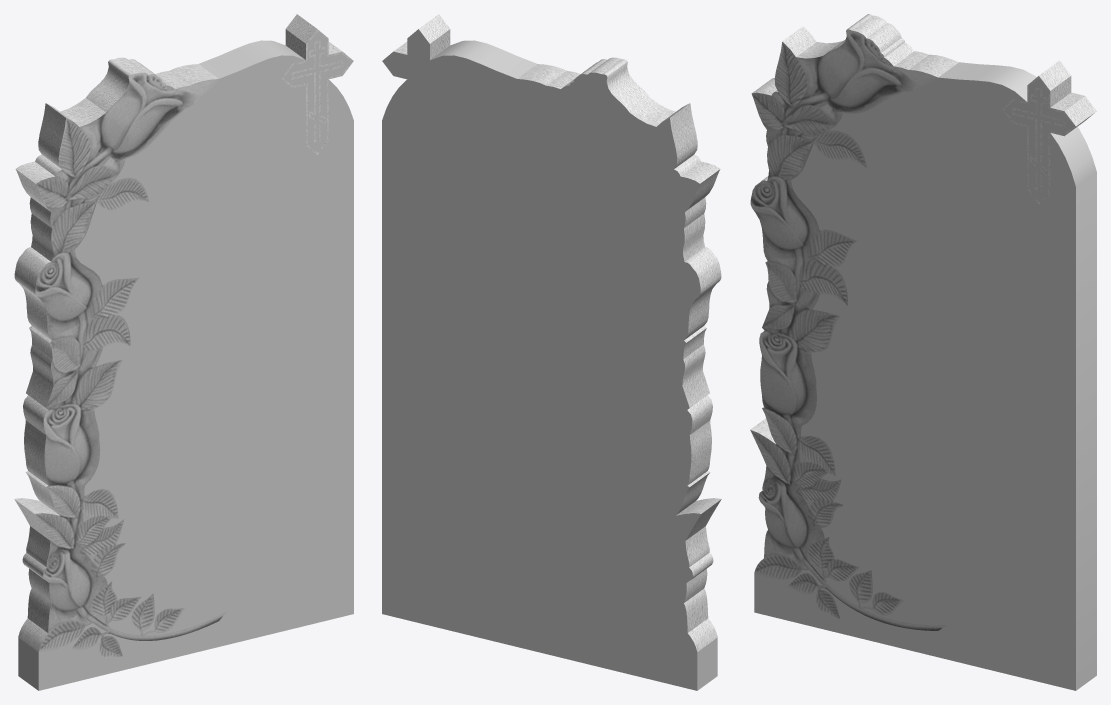
Rendered from cn8a22f0b9d9_tkf.glb.
3 views of the same model, side by side, from view 1: azimuth 30°, elevation 25°; view 2: azimuth 150°, elevation 25°; view 3: azimuth 330°, elevation 25° (orthographic). The views are drawn at different scales.
Visible parts, largest first — view 1: Pam-d01-232, Pam-d01-232_2_notexture; view 2: Pam-d01-232, Pam-d01-232_2_notexture; view 3: Pam-d01-232, Pam-d01-232_2_notexture.
Boxes of the visible parts, box(x1,y1,x2,y2) form: Pam-d01-232: box(18, 32, 353, 690); Pam-d01-232_2_notexture: box(14, 14, 353, 657); Pam-d01-232: box(382, 29, 717, 690); Pam-d01-232_2_notexture: box(393, 14, 721, 651); Pam-d01-232: box(754, 62, 1096, 690); Pam-d01-232_2_notexture: box(750, 14, 1096, 630).
Bounding box in the file's own units: 0.45 × 0.8 × 0.05.
Materials: 1 (1 with a texture image).
